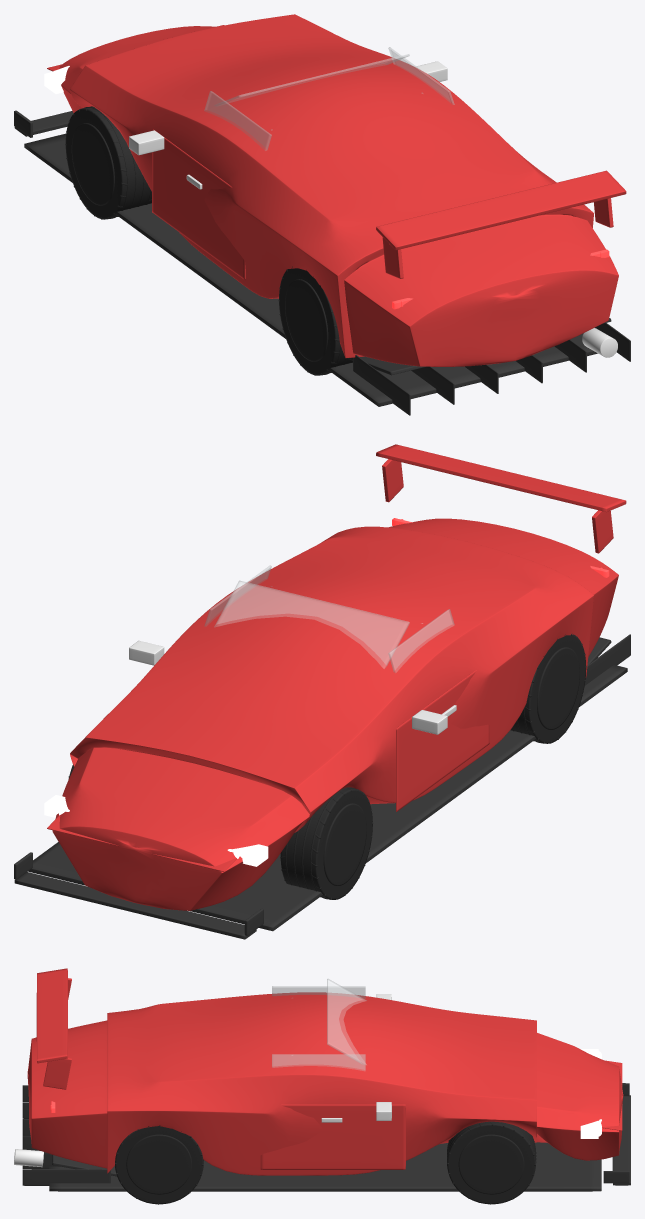
File: Car_Toyota_Supra_A80_1990s_Complete.glb
3 renders of one model, top to bottom at view 1: azimuth 30°, elevation 25°; view 2: azimuth 150°, elevation 25°; view 3: azimuth 270°, elevation 25°, orthographic. The views are drawn at different scales.
Parts seen in each view (by area): view 1: BODY_MainShell, UNDERBODY_FlatFloor, AERO_Supra_HoopWing, WHEEL_FL_Tire, BODY_Door_FL, WHEEL_RL_Tire, GLASS_Greenhouse, JEWELRY_Hardware, AERO_FrontSplitter, JEWELRY_Supra_CannonExhaust; view 2: BODY_MainShell, UNDERBODY_FlatFloor, GLASS_Greenhouse, WHEEL_FL_Tire, BODY_Door_FL, AERO_Supra_HoopWing, WHEEL_RL_Tire, AERO_FrontSplitter, JEWELRY_Hardware, LIGHTING_Headlamps; view 3: BODY_MainShell, UNDERBODY_FlatFloor, BODY_Door_FR, WHEEL_FR_Tire, WHEEL_RR_Tire, AERO_Supra_HoopWing, GLASS_Greenhouse, AERO_FrontSplitter, JEWELRY_Hardware, JEWELRY_Supra_CannonExhaust, LIGHTING_Headlamps.
Part boxes in pixels (box(x1,y1,x2,y2)): BODY_MainShell: box(59, 14, 618, 366); UNDERBODY_FlatFloor: box(24, 133, 630, 415); AERO_Supra_HoopWing: box(376, 170, 626, 278); WHEEL_FL_Tire: box(65, 106, 151, 219); BODY_Door_FL: box(152, 129, 245, 280); WHEEL_RL_Tire: box(278, 266, 352, 375); GLASS_Greenhouse: box(204, 47, 454, 150); JEWELRY_Hardware: box(129, 61, 447, 189); AERO_FrontSplitter: box(14, 110, 73, 137); JEWELRY_Supra_CannonExhaust: box(582, 328, 617, 357); BODY_MainShell: box(52, 518, 618, 910); UNDERBODY_FlatFloor: box(28, 634, 630, 931); GLASS_Greenhouse: box(204, 565, 454, 672); WHEEL_FL_Tire: box(280, 787, 373, 899); BODY_Door_FL: box(396, 670, 489, 811); AERO_Supra_HoopWing: box(376, 444, 626, 553); WHEEL_RL_Tire: box(510, 634, 586, 743); AERO_FrontSplitter: box(14, 852, 263, 939); JEWELRY_Hardware: box(129, 640, 456, 734); LIGHTING_Headlamps: box(44, 795, 268, 866); BODY_MainShell: box(27, 992, 623, 1175); UNDERBODY_FlatFloor: box(22, 1085, 601, 1191); BODY_Door_FR: box(260, 1104, 405, 1169); WHEEL_FR_Tire: box(447, 1121, 536, 1204); WHEEL_RR_Tire: box(115, 1125, 203, 1204); AERO_Supra_HoopWing: box(36, 968, 71, 1089); GLASS_Greenhouse: box(272, 979, 366, 1070); AERO_FrontSplitter: box(603, 1083, 630, 1185); JEWELRY_Hardware: box(321, 994, 391, 1122); JEWELRY_Supra_CannonExhaust: box(14, 1149, 43, 1167); LIGHTING_Headlamps: box(580, 1049, 601, 1138).
Size of what is drawn, in the model's own units: 2.13 by 1.24 by 4.73.
